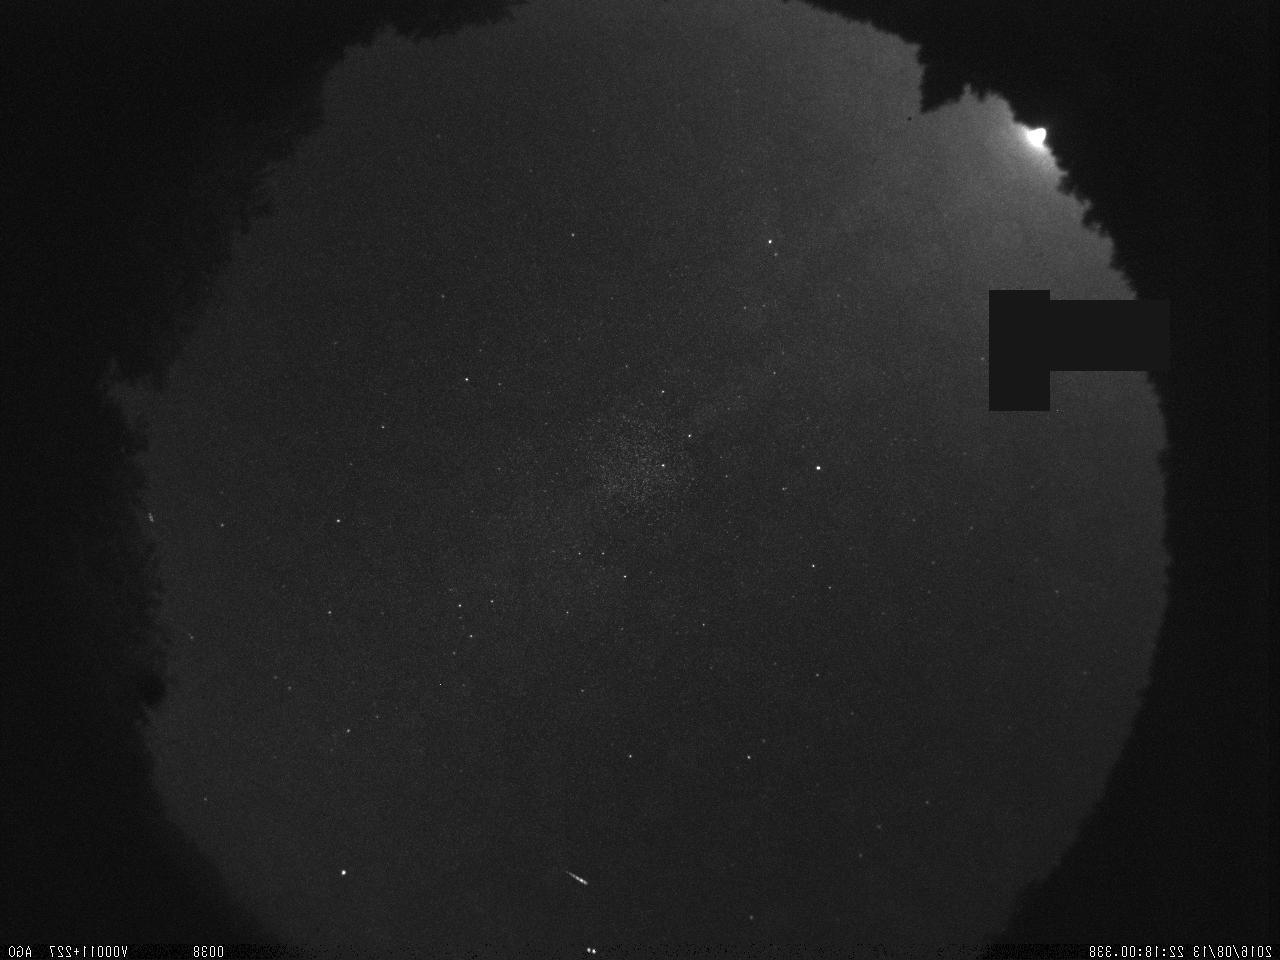meteor: (555, 860, 608, 895)
